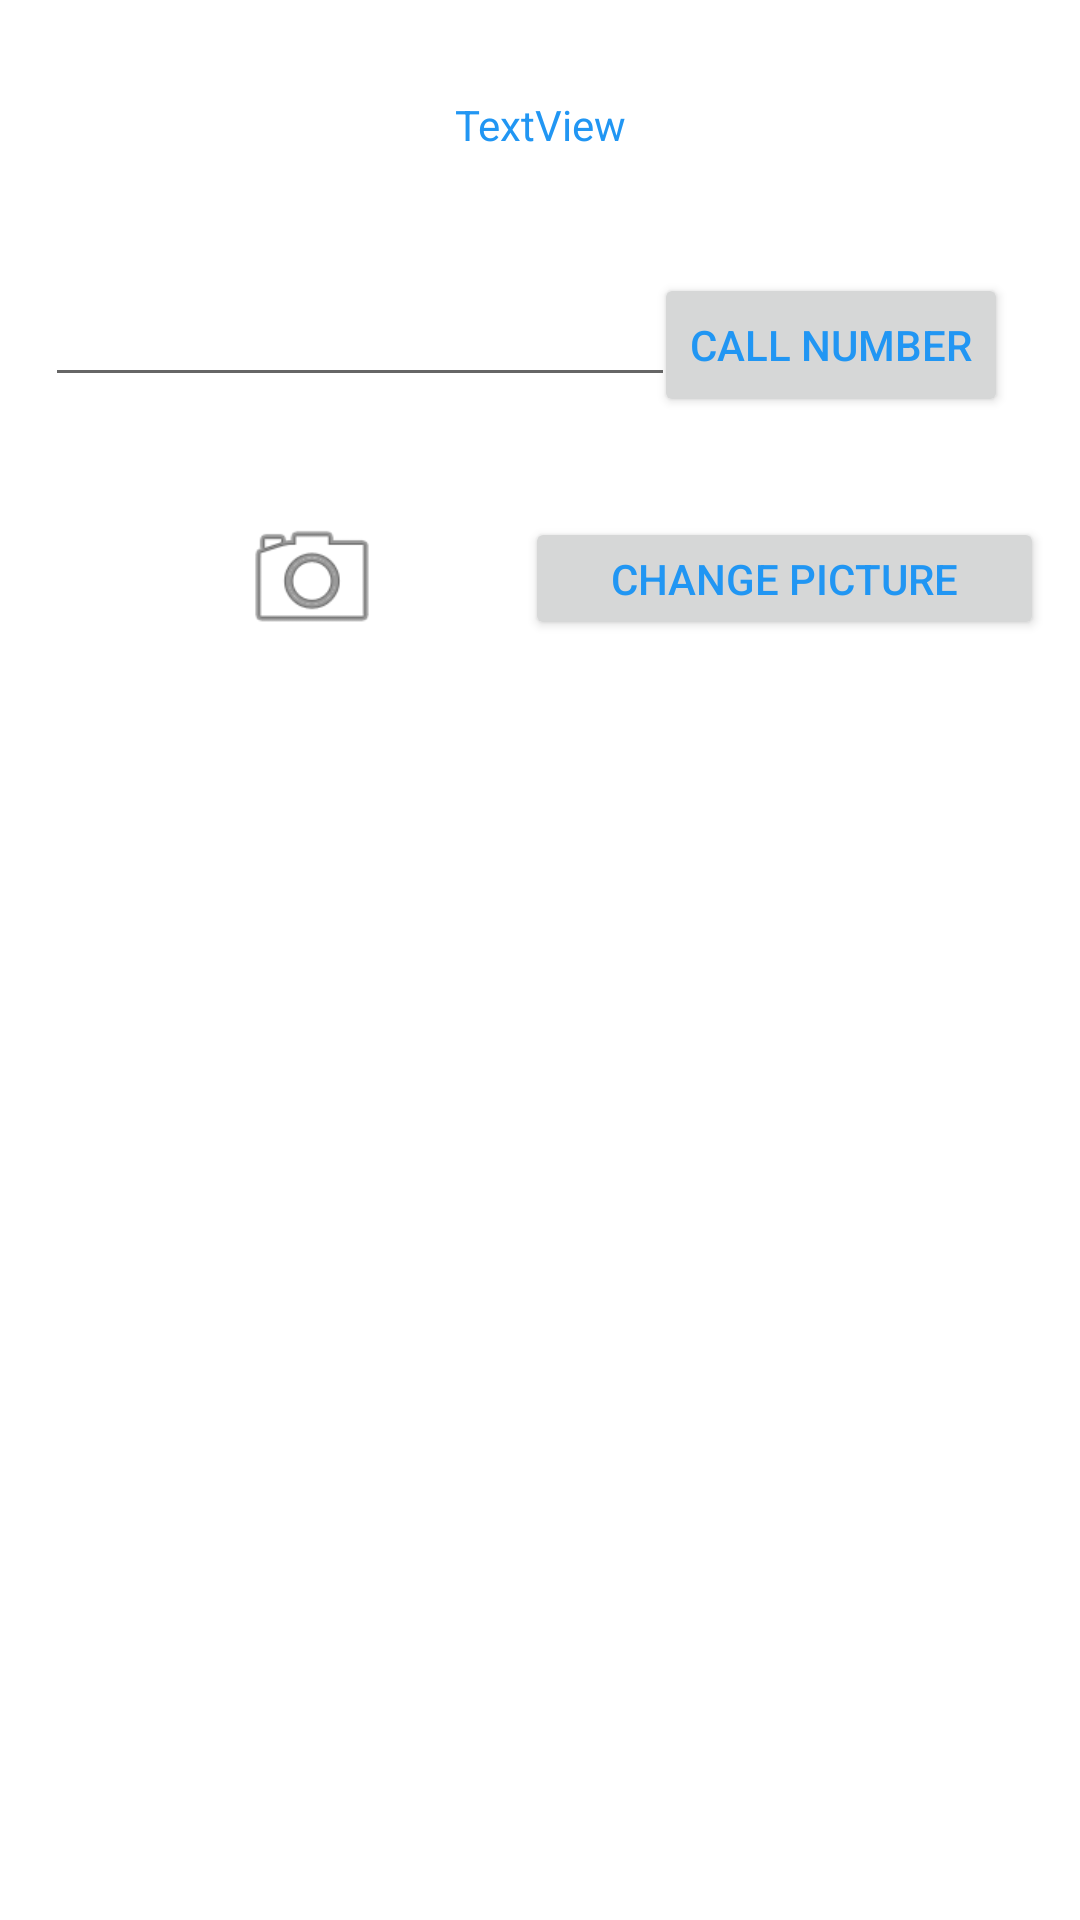

Icons on this 1080*1920 Android screen, each with the point to tap as [x,y]:
camera: [312,576]
